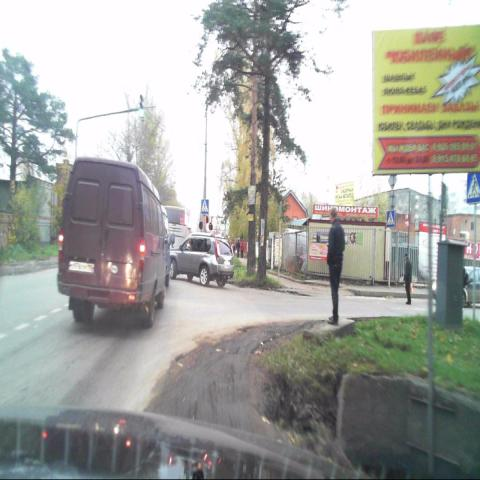5_19_1: (466, 172, 479, 202), (387, 208, 395, 228), (200, 200, 207, 216)
